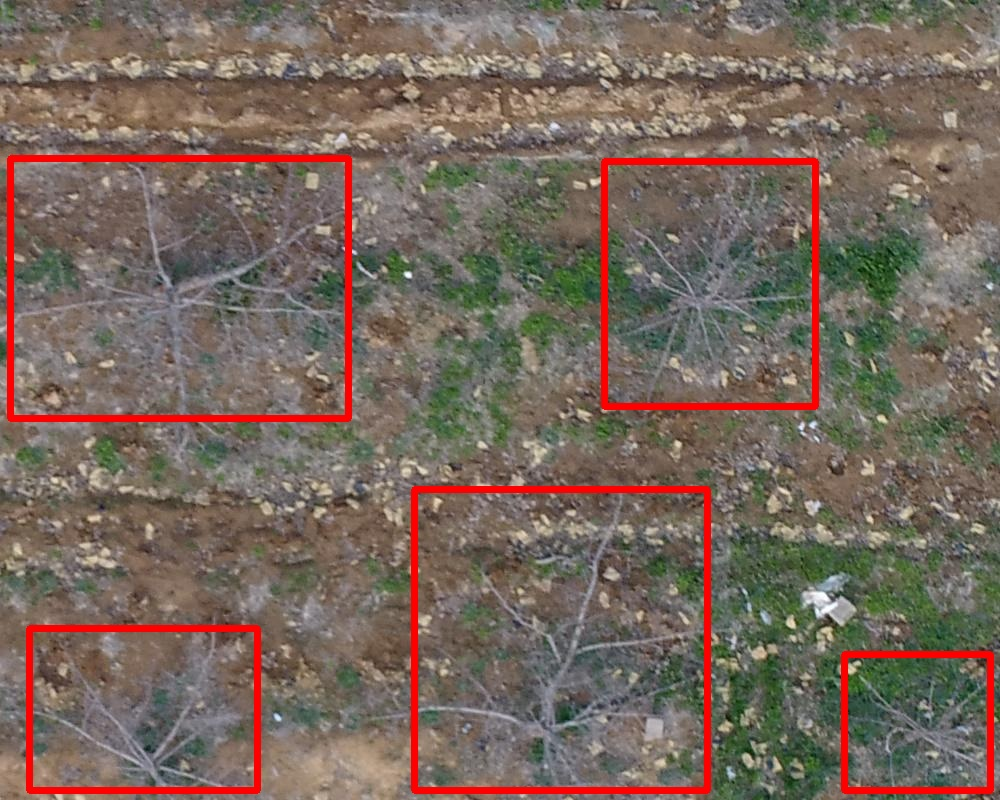apple: (414, 489, 707, 790), (10, 158, 348, 418), (604, 161, 815, 406), (29, 628, 257, 790), (844, 654, 990, 790)
